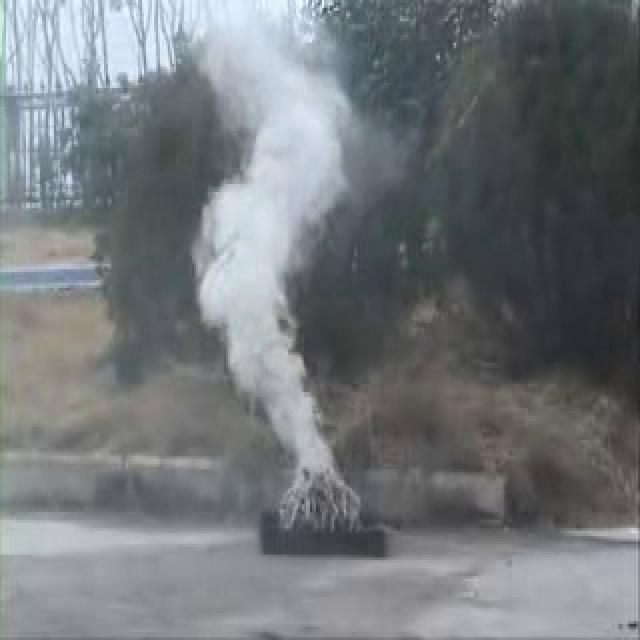smoke: (188, 3, 406, 472)
